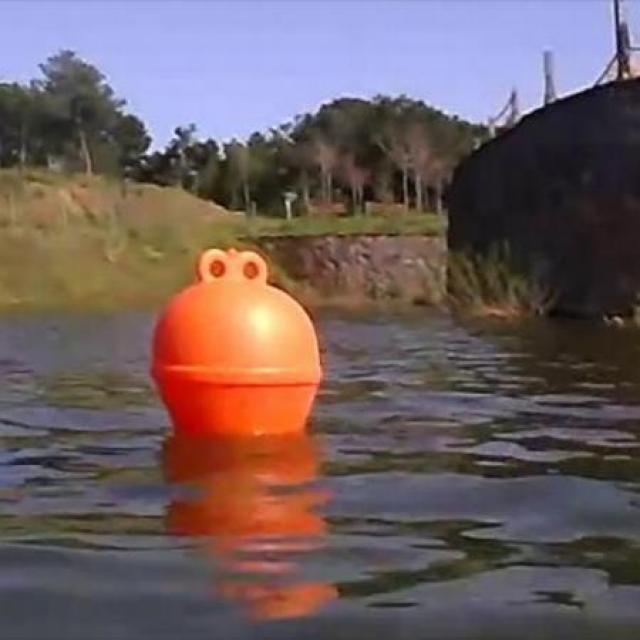buoy: (148, 249, 326, 442)
